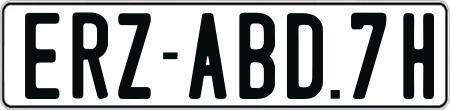7: (348, 12, 383, 99)
A: (188, 10, 225, 96)
B: (236, 12, 274, 100)
D: (286, 12, 325, 102)
E: (22, 10, 59, 102)
H: (401, 10, 436, 100)
R: (72, 12, 109, 100)
Z: (117, 13, 156, 99)
